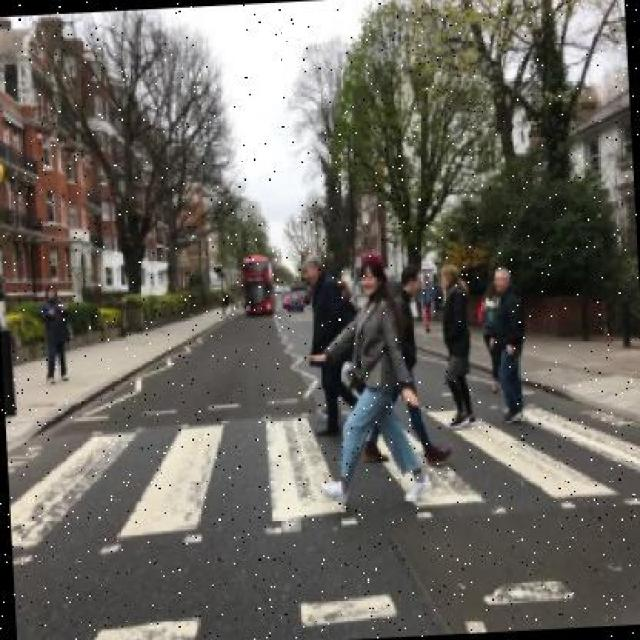obstacle: (305, 250, 417, 508), (358, 259, 444, 463), (302, 251, 361, 438), (484, 262, 528, 424), (434, 262, 474, 430), (38, 280, 72, 386)
